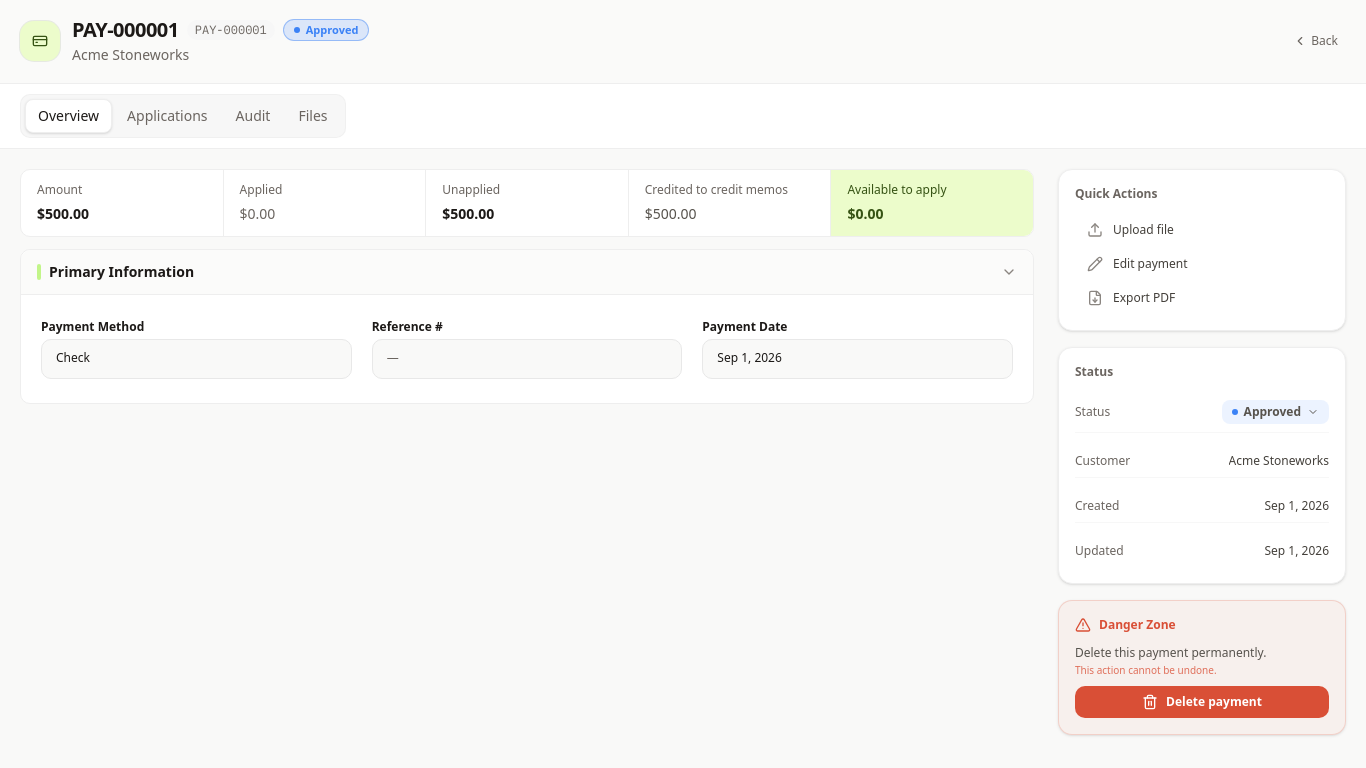
Test case: PaymentDetailPage credited overpayment › cannot apply money that is all credited already
Click the button "Applications" at point(167, 116), box [114, 99, 221, 133]
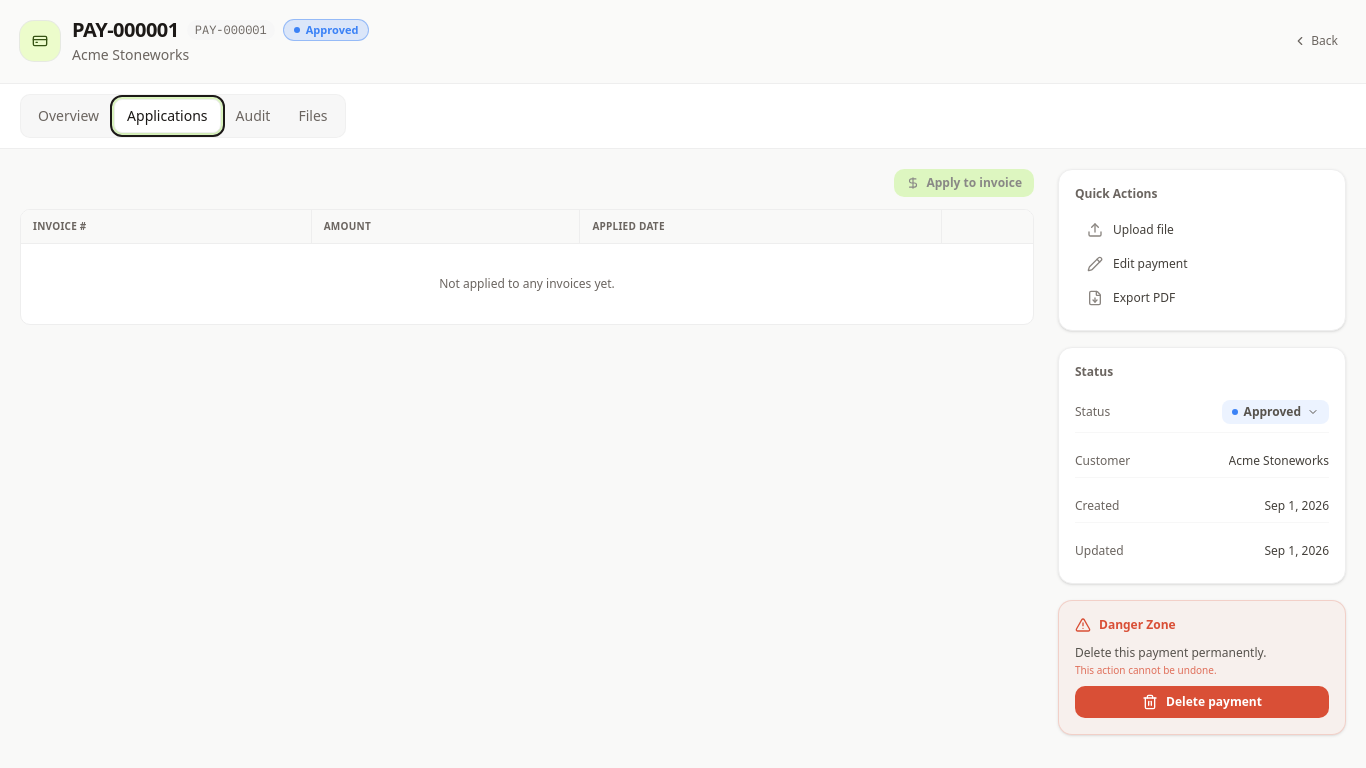
Check: the button "Apply to invoice" is disabled, box [894, 169, 1034, 197]
